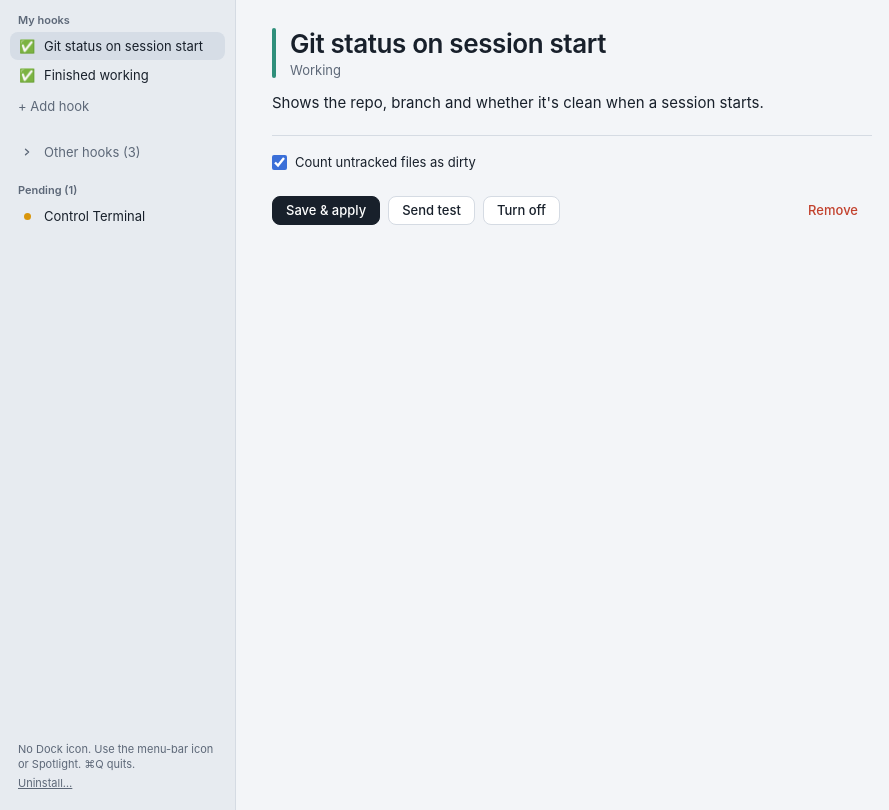
Test case: App › pending_detail_not_askable_shows_steps_and_no_ask_button
Click the button "Control Terminal". click: (118, 216)
box: x1=10 y1=202 x2=225 y2=230
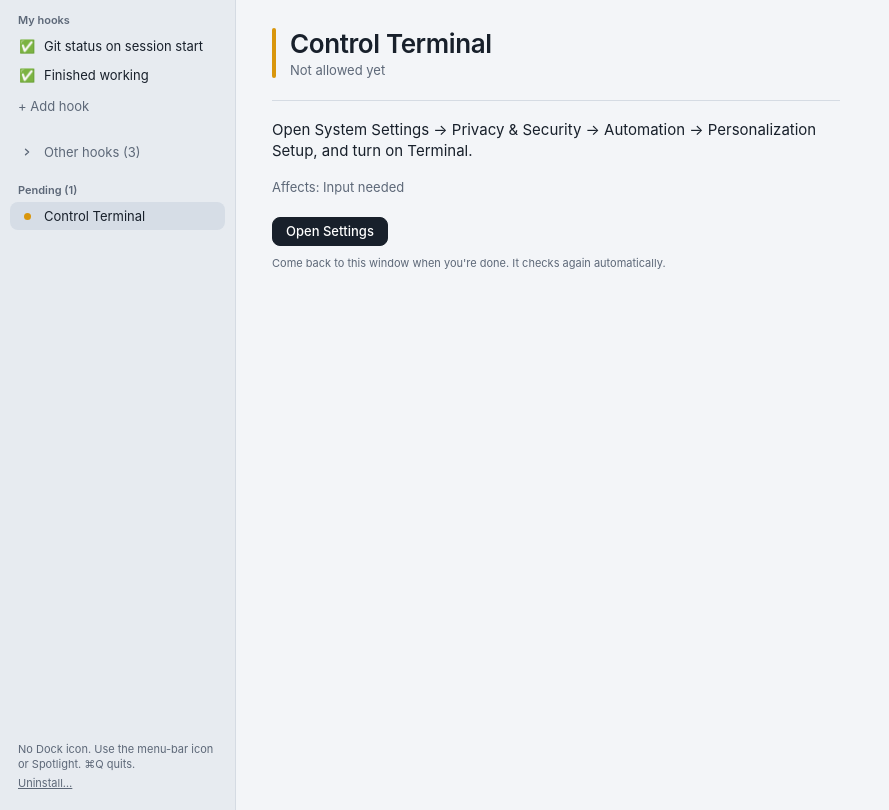
Result: the text "Open System Settings → Privacy & Security → Automation → Personalization Setup, and turn on Terminal." is shown at x1=272 y1=120 x2=816 y2=160
Result: the button "Open Settings" is shown at x1=272 y1=217 x2=388 y2=246
